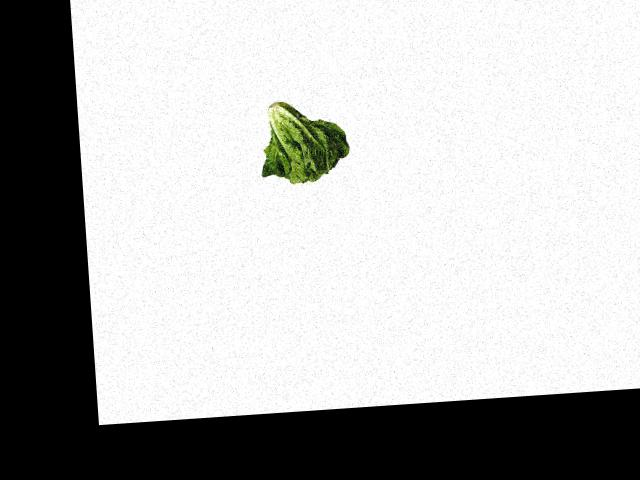lettuce: (254, 92, 353, 189)
